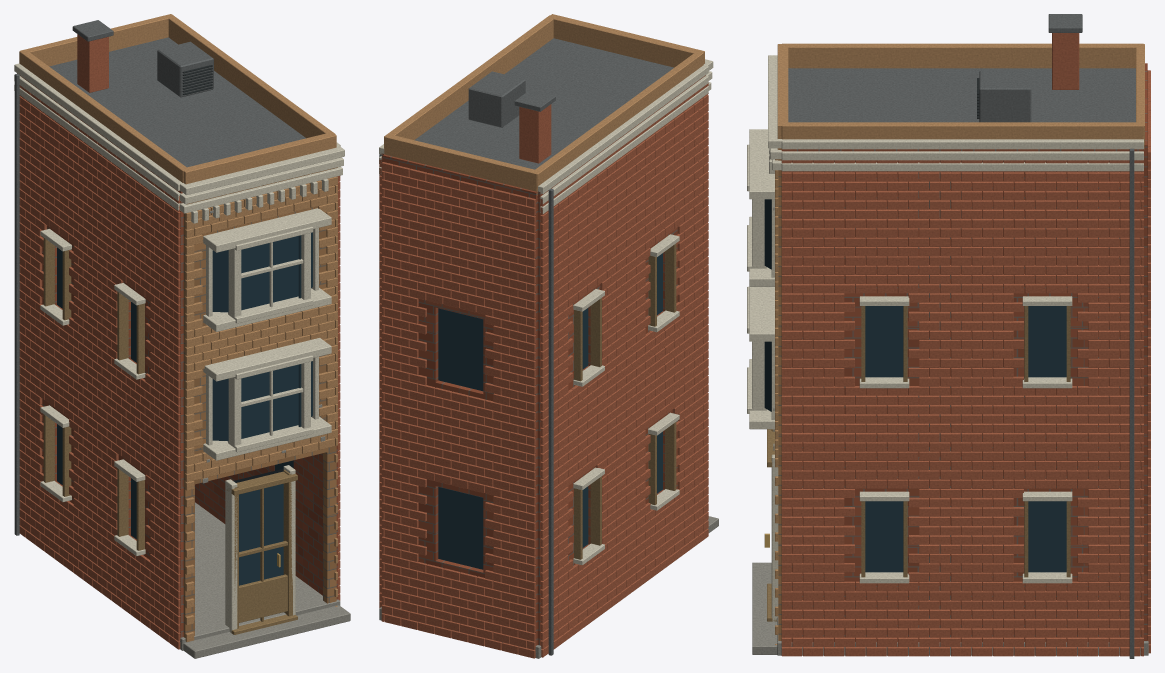
File: RUNDWN14_lod0.glb
3 views of the same model, side by side, from view 1: azimuth 30°, elevation 25°; view 2: azimuth 150°, elevation 25°; view 3: azimuth 270°, elevation 25° (orthographic). The views are drawn at different scales.
Parts seen in each view (by area): view 1: RUNDWN14_LOD0; view 2: RUNDWN14_LOD0; view 3: RUNDWN14_LOD0.
Boxes of the visible parts, left/top/right/bottom form: RUNDWN14_LOD0: left=14, top=14, right=350, bottom=658; RUNDWN14_LOD0: left=379, top=14, right=718, bottom=658; RUNDWN14_LOD0: left=747, top=14, right=1150, bottom=658.
Bounding box in the file's own units: 3.71 × 10.45 × 6.69.
Materials: 16 (13 with a texture image).
